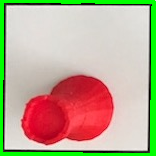Red Castle: (16, 70, 119, 148)
